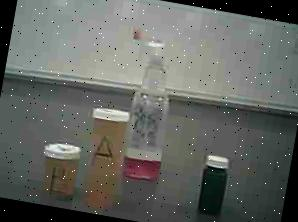Bottle A: (72, 100, 137, 215)
Bottle B: (32, 134, 86, 210)
Bottle C: (193, 148, 237, 217)
hazard: (110, 25, 192, 195)
